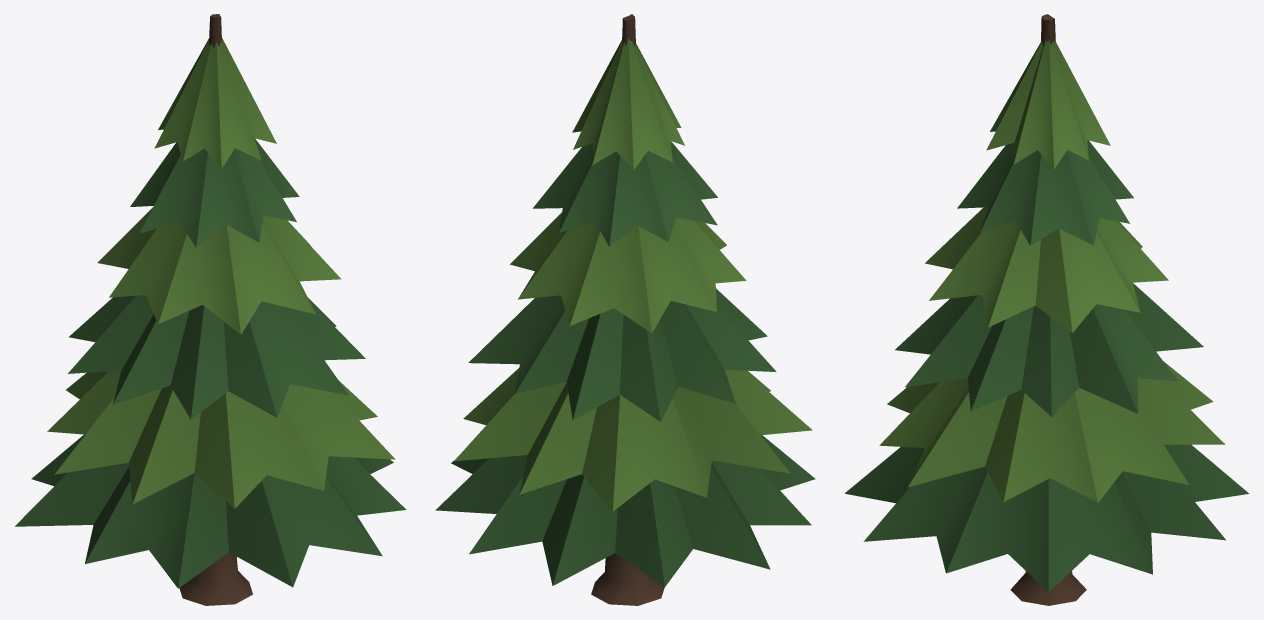
File: tree_pine.glb
The picture shows the model from 3 angles, left to right: view 1: azimuth 30°, elevation 25°; view 2: azimuth 150°, elevation 25°; view 3: azimuth 270°, elevation 25°; orthographic projection.
Parts seen in each view (by area): view 1: leaves, trunk; view 2: leaves, trunk; view 3: leaves, trunk.
Boxes of the visible parts, box(x1,y1,x2,y2) form: leaves: box(15, 38, 406, 588); trunk: box(179, 14, 252, 605); leaves: box(435, 38, 815, 586); trunk: box(591, 14, 664, 605); leaves: box(845, 40, 1249, 592); trunk: box(1010, 14, 1086, 605).
Bounding box in the file's own units: 3.58 × 5.61 × 3.6.
